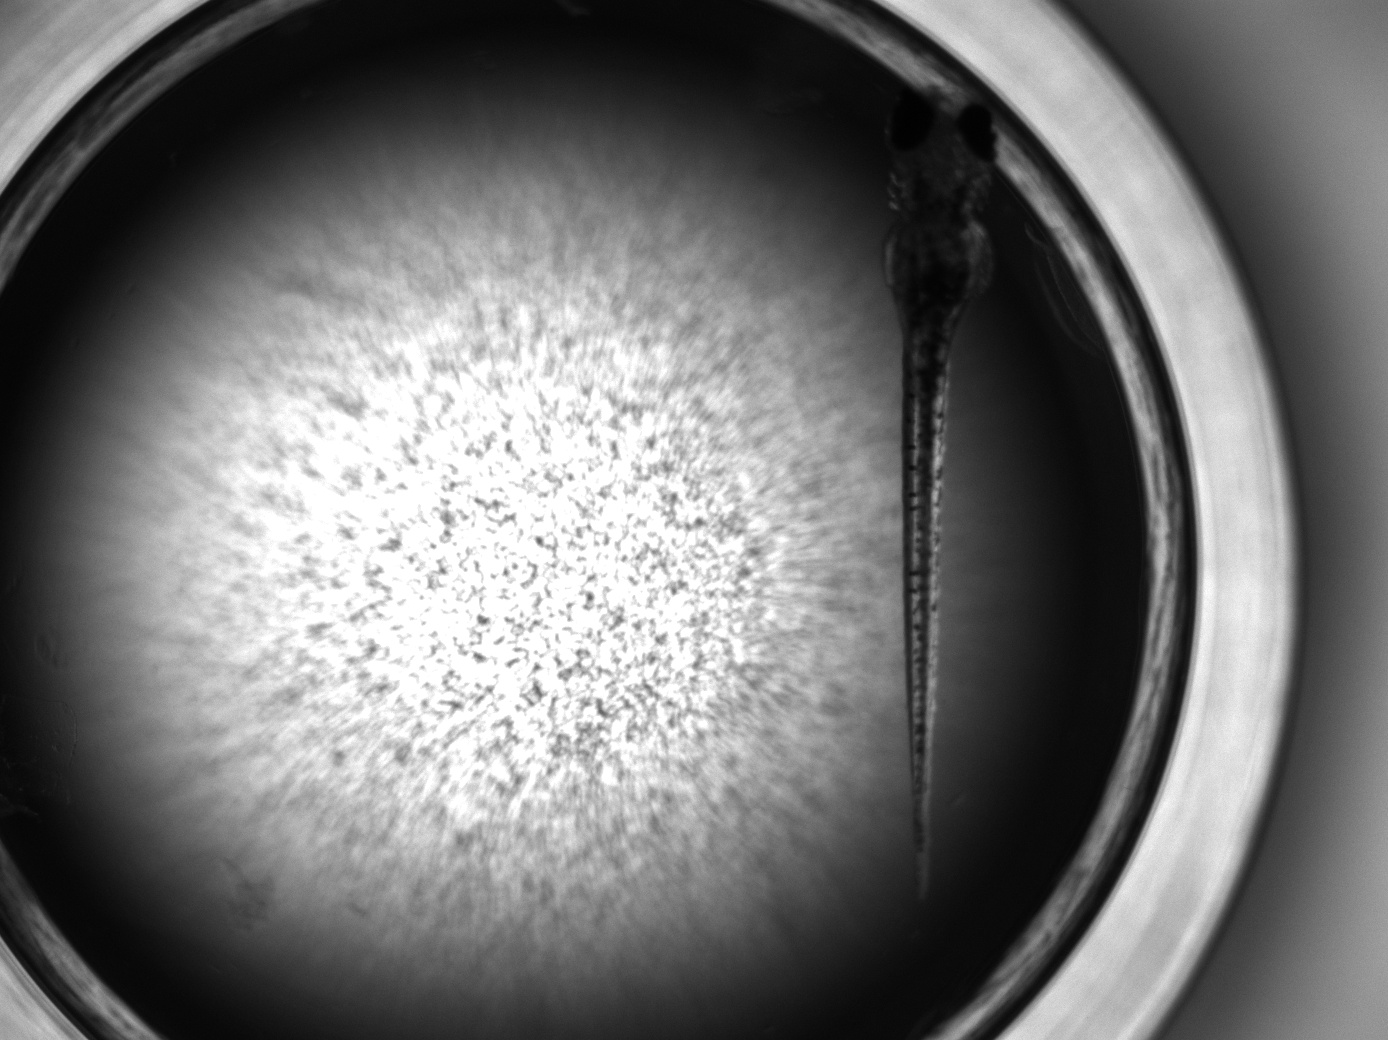embryo: (880, 88, 997, 902)
eye: (885, 87, 932, 154), (954, 101, 998, 163)
yolksac: (881, 213, 997, 346)
